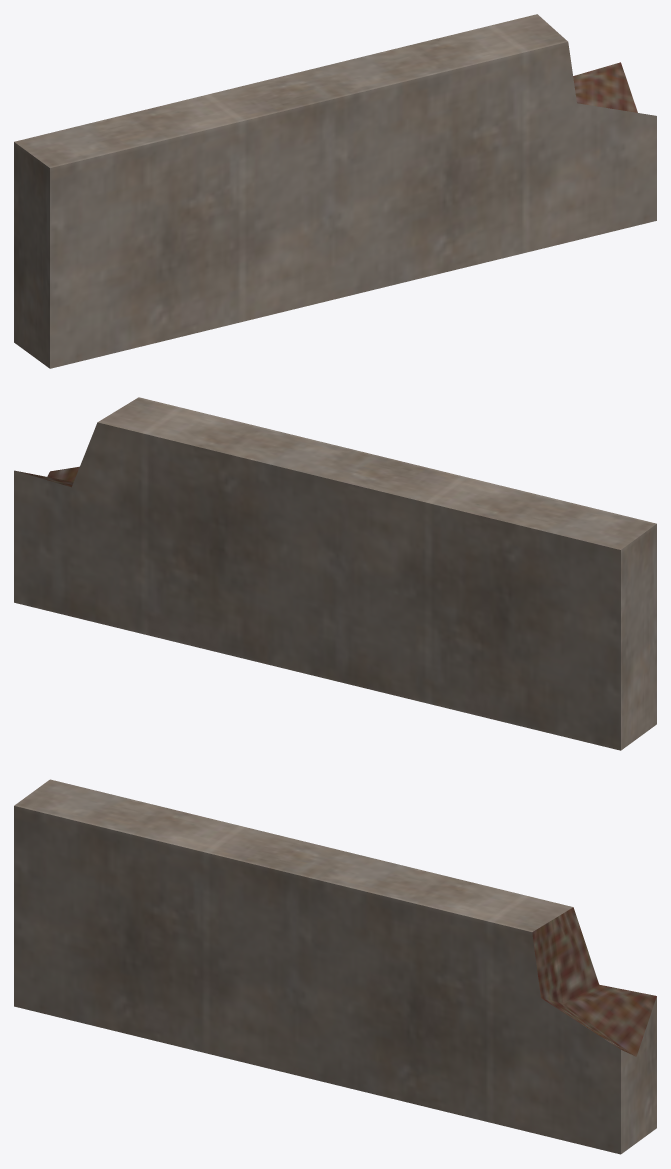
File: plester wall3.fbx
3 views of the same model, one above another, from view 1: azimuth 30°, elevation 25°; view 2: azimuth 150°, elevation 25°; view 3: azimuth 330°, elevation 25° (orthographic).
Visible parts, largest first — view 1: Cube.003; view 2: Cube.003; view 3: Cube.003.
Part boxes in pixels (bbox=[...]): Cube.003: bbox=[14, 14, 656, 368]; Cube.003: bbox=[14, 397, 656, 750]; Cube.003: bbox=[14, 779, 656, 1154].
Bounding box in the file's own units: 398 × 126 × 40.98.
1 material, 1 textured.
